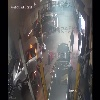fire: (29, 39, 38, 64)
